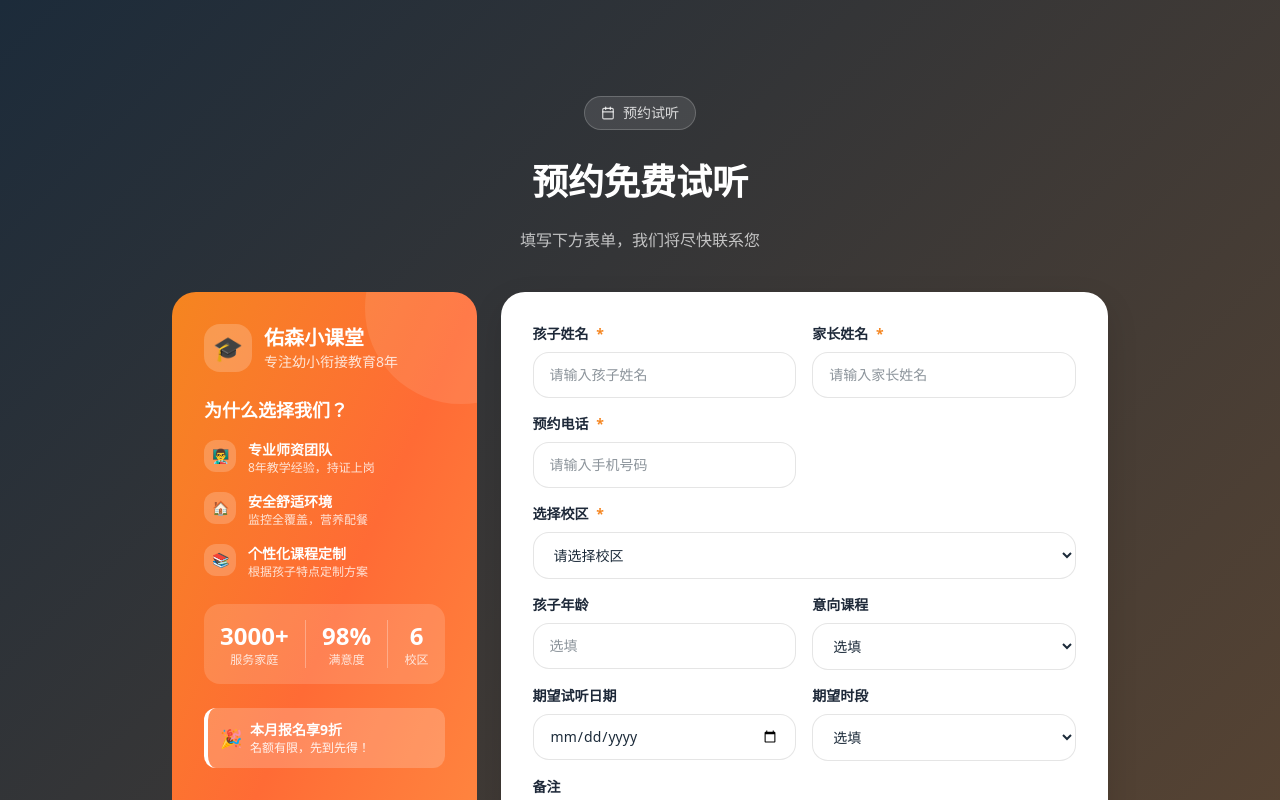
ContactForm 组件 › 校区字段为空时显示错误
Type "小明" into the field labelled "孩子姓名 *" at (664, 375), box left=533, top=352, right=796, bottom=398
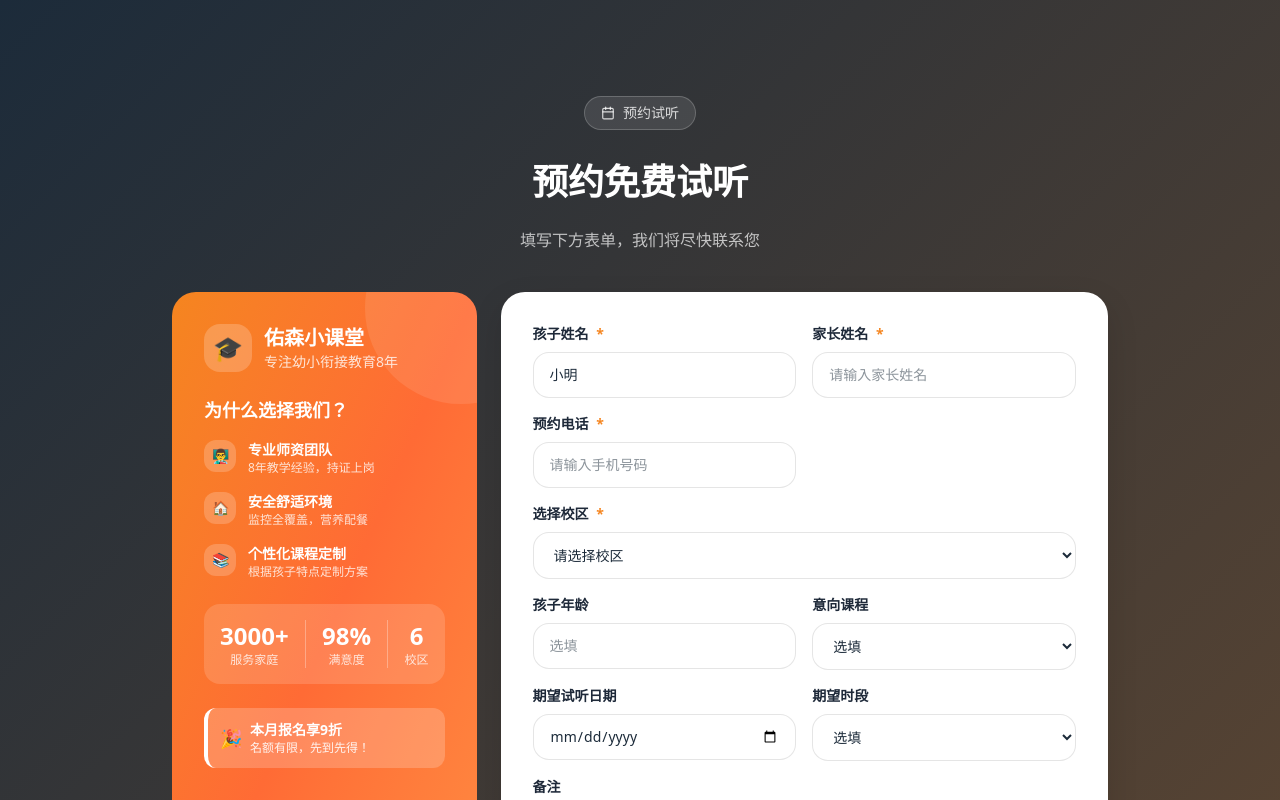
Type "张先生" into the field labelled "家长姓名 *" at (944, 375), box left=812, top=352, right=1076, bottom=398
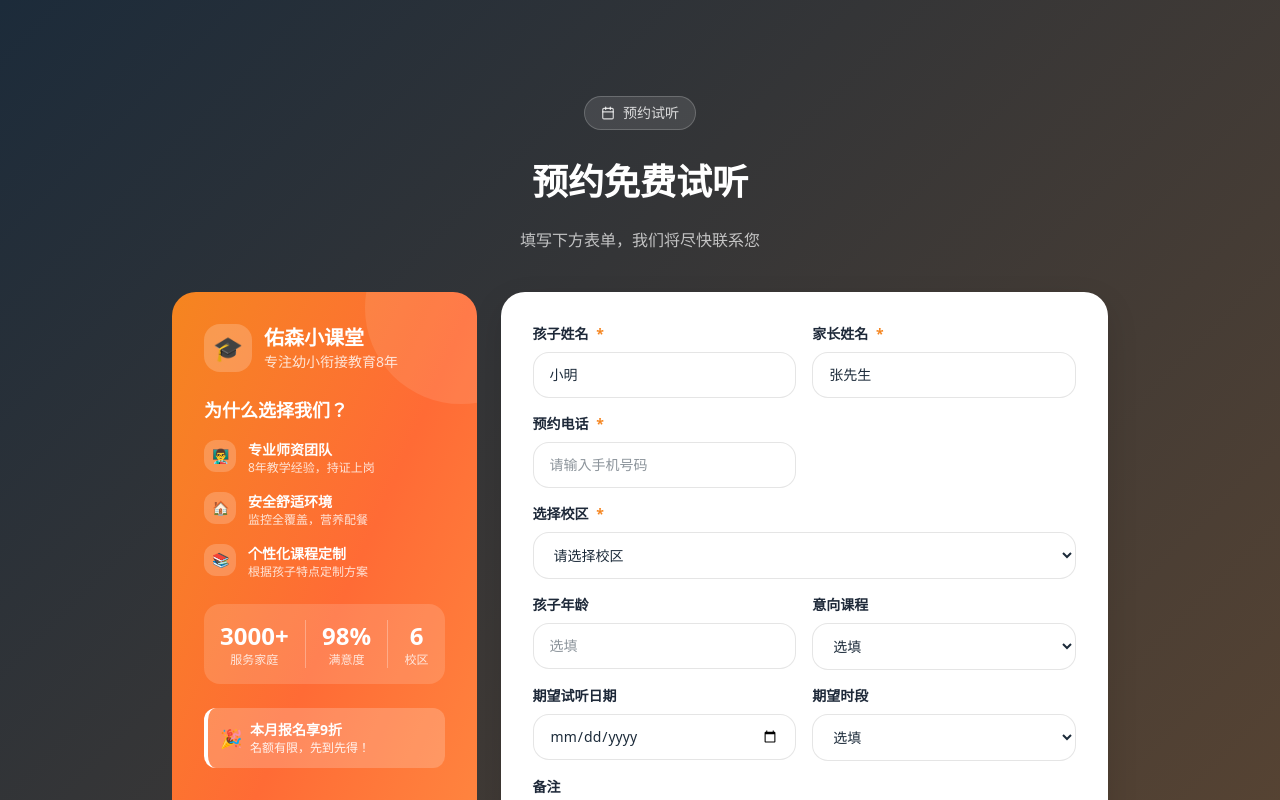
Type "13800138000" into the field labelled "预约电话 *" at (664, 465), box left=533, top=442, right=796, bottom=488
(page scrolled)
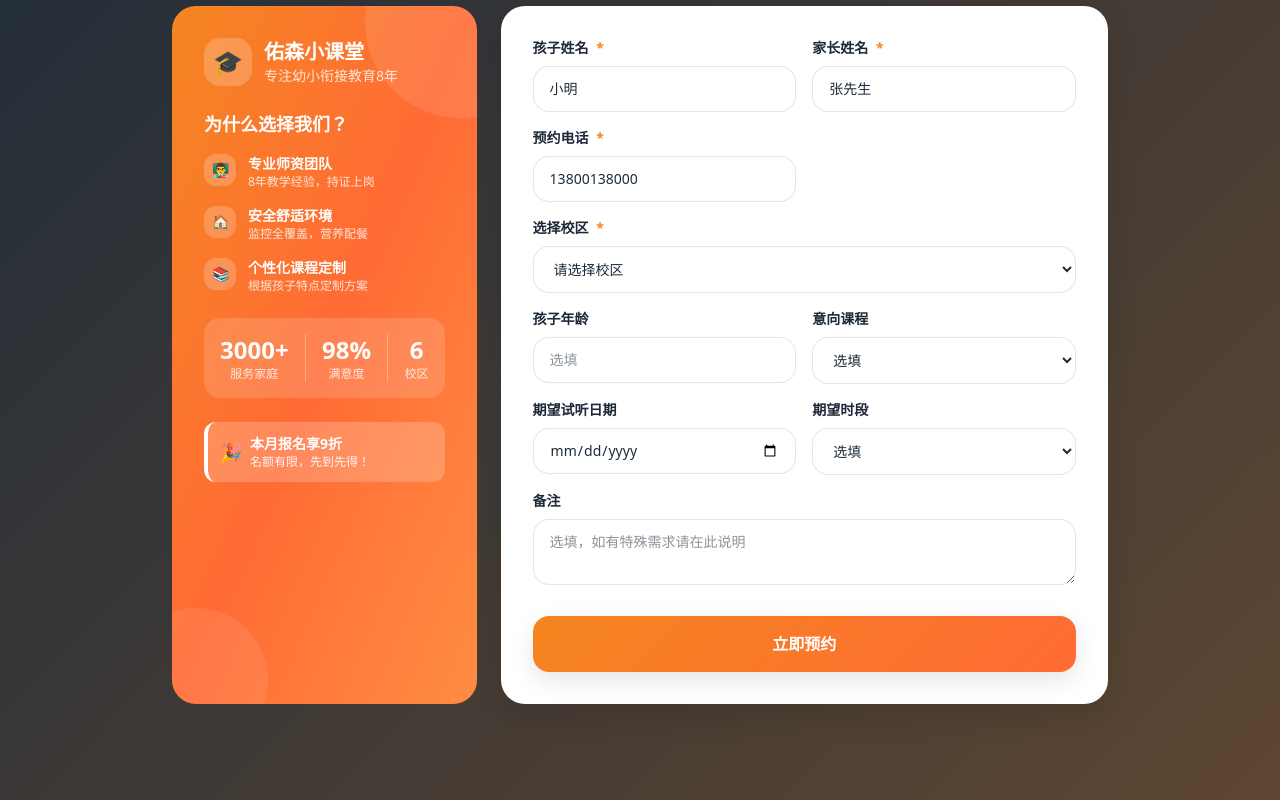
Click the button "立即预约" at (804, 644), box left=533, top=616, right=1076, bottom=672
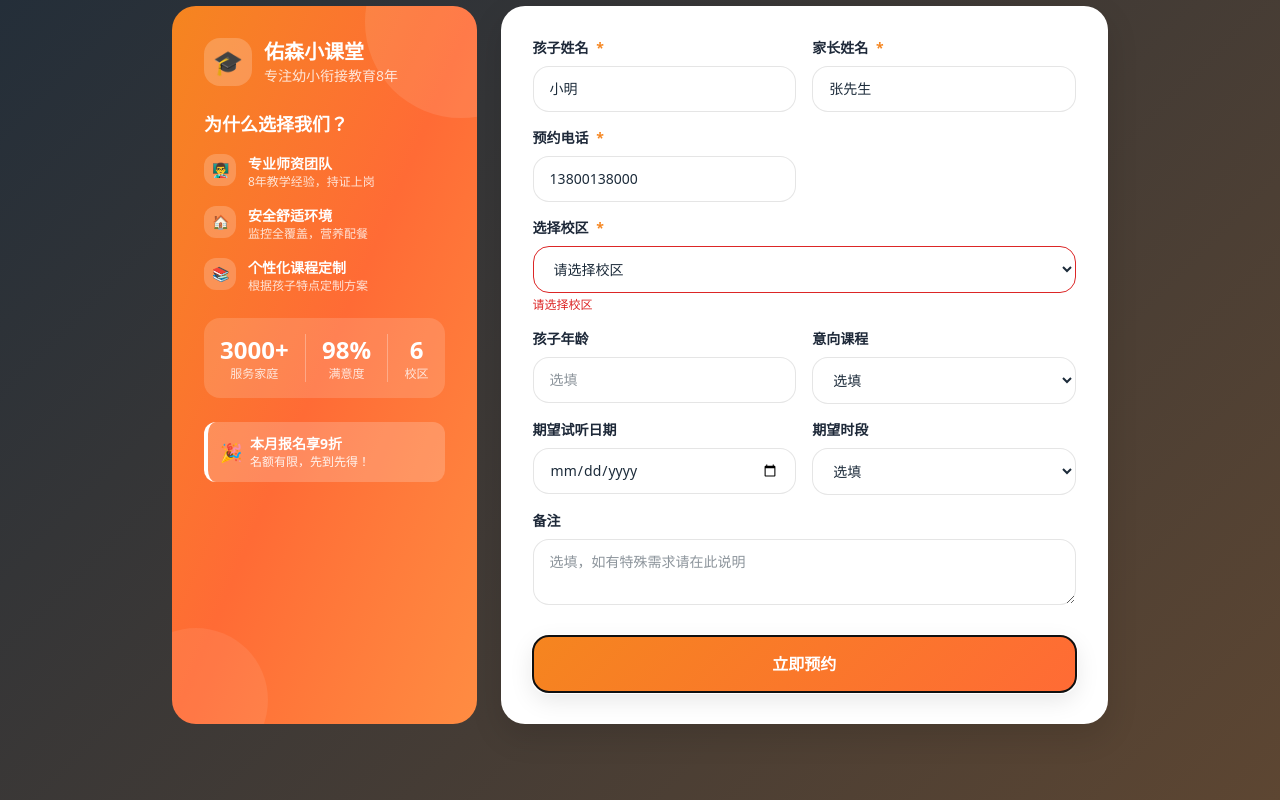
Expected: the text "请选择校区" is shown, left=533, top=296, right=593, bottom=313
